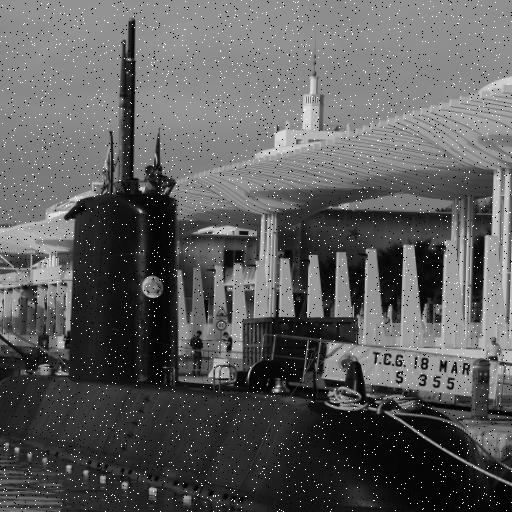submarine: (1, 10, 512, 512)
